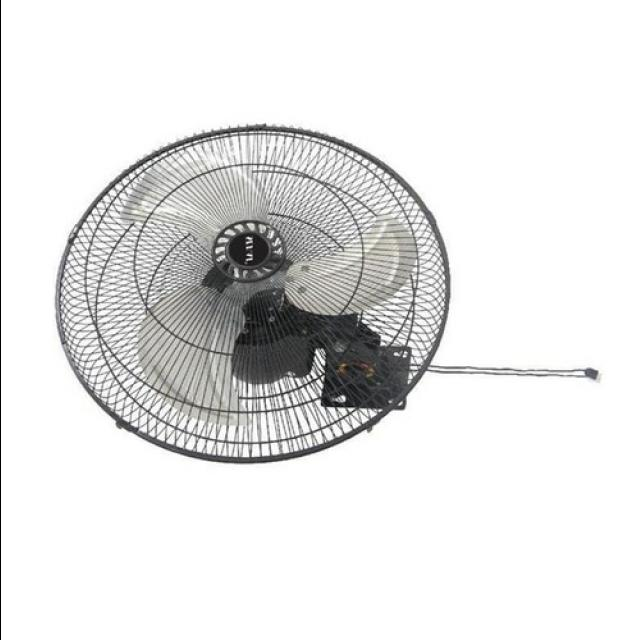fan: (48, 127, 616, 470)
